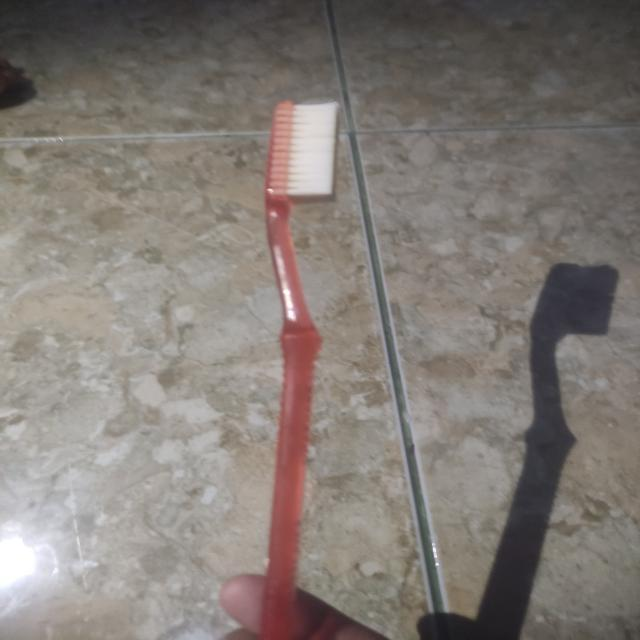toothbrush: (262, 88, 342, 640)
